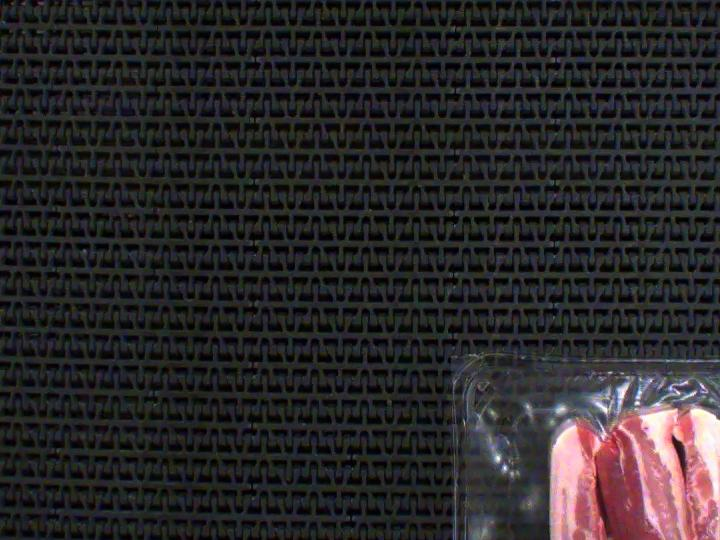unsealed: (470, 358, 720, 540)
